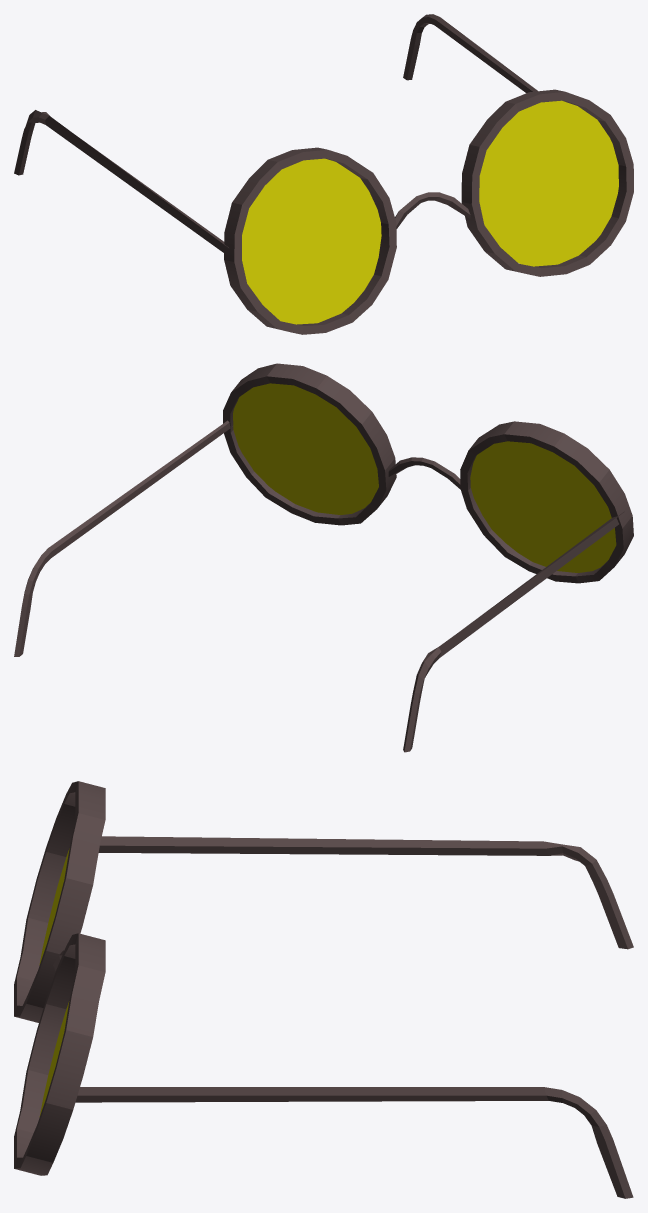
Rendered from glassesnew.fbx.
The picture shows the model from 3 angles, top to bottom: view 1: azimuth 30°, elevation 25°; view 2: azimuth 150°, elevation 25°; view 3: azimuth 270°, elevation 25°; orthographic projection. The views are drawn at different scales.
Parts seen in each view (by area): view 1: glasses:glasses2, glasses:glasses3; view 2: glasses:glasses2, glasses:glasses3; view 3: glasses:glasses3, glasses:glasses2.
Boxes of the visible parts, left/top/right/bottom form: glasses:glasses2: left=242, top=100, right=618, bottom=324; glasses:glasses3: left=14, top=14, right=633, bottom=334; glasses:glasses2: left=233, top=383, right=616, bottom=572; glasses:glasses3: left=14, top=363, right=633, bottom=752; glasses:glasses3: left=14, top=781, right=633, bottom=1198; glasses:glasses2: left=39, top=848, right=69, bottom=1116.
Bounding box in the file's own units: 7.77 × 3.12 × 7.95.
